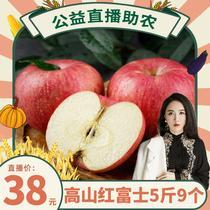apple: (46, 92, 146, 173), (106, 58, 196, 138), (16, 60, 105, 136)
